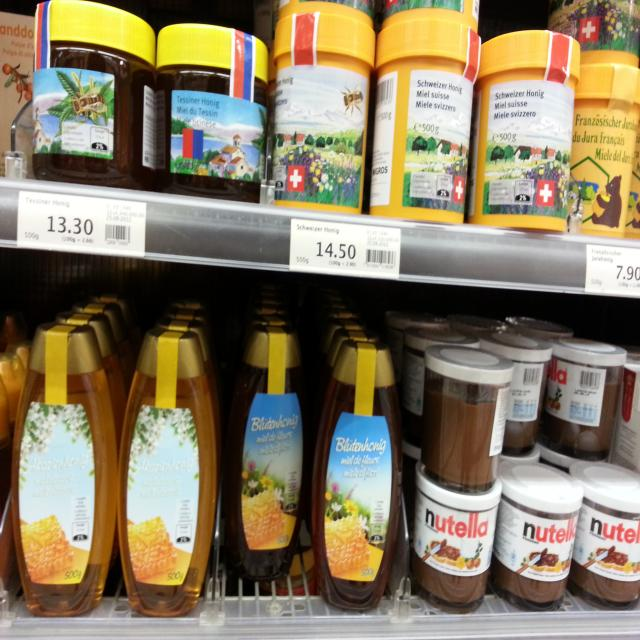Spreads: (14, 322, 120, 622), (123, 325, 215, 618), (363, 6, 483, 228), (34, 0, 159, 190), (219, 328, 310, 584), (318, 335, 401, 609), (475, 24, 578, 236), (273, 0, 373, 215), (159, 21, 273, 203), (406, 461, 507, 612), (418, 340, 514, 492), (502, 453, 590, 612), (579, 61, 640, 242), (573, 458, 640, 614), (548, 336, 626, 458), (479, 327, 554, 450)
